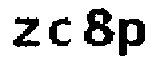8: (80, 6, 116, 50)
c: (46, 16, 73, 48)
p: (116, 14, 148, 60)
z: (9, 14, 43, 50)
